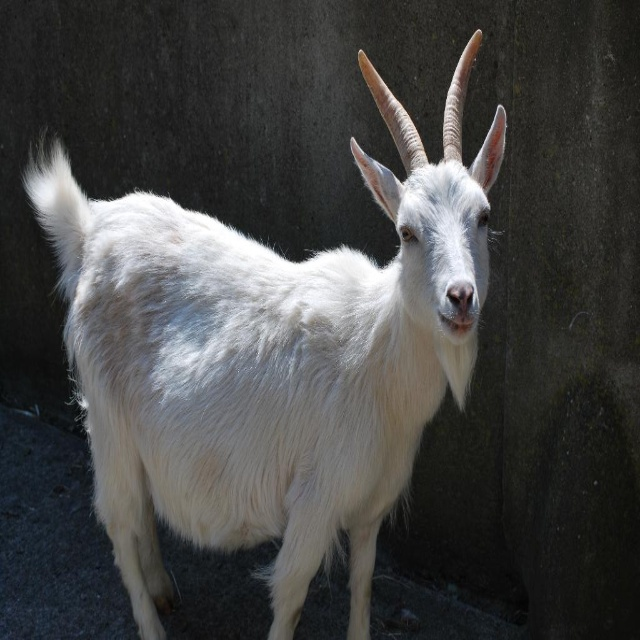Goat: (21, 25, 509, 639)
